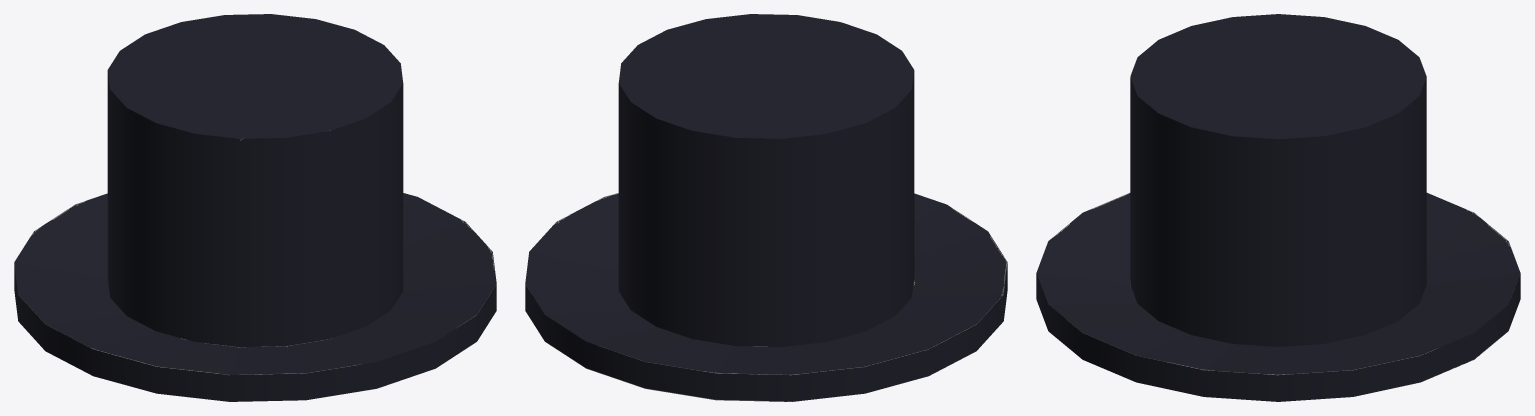
File: hat businessman.fbx
The picture shows the model from 3 angles, left to right: view 1: azimuth 30°, elevation 25°; view 2: azimuth 150°, elevation 25°; view 3: azimuth 270°, elevation 25°; orthographic projection.
Visible parts, largest first — view 1: pCylinder4; view 2: pCylinder4; view 3: pCylinder4.
Boxes of the visible parts, left/top/right/bottom form: pCylinder4: left=14, top=14, right=496, bottom=401; pCylinder4: left=525, top=14, right=1007, bottom=401; pCylinder4: left=1036, top=14, right=1520, bottom=401.
Size of the model in its own units: 3.27 by 1.66 by 3.27.
